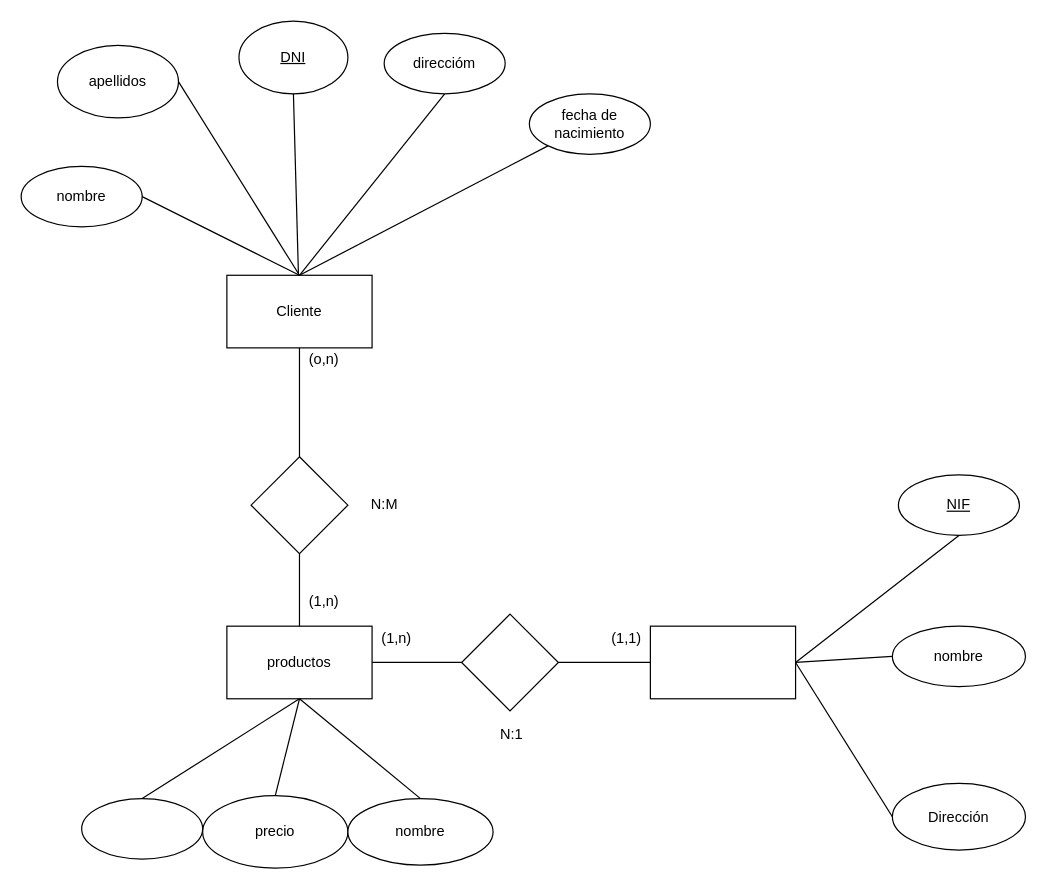
This 1047x889 diagram has some shape labels left out. Each missing label, with the box of its shape:
codigo: (80, 797, 203, 859)
Comprar: (250, 456, 348, 554)
proveedor: (649, 625, 796, 699)
suministra: (460, 613, 558, 711)
